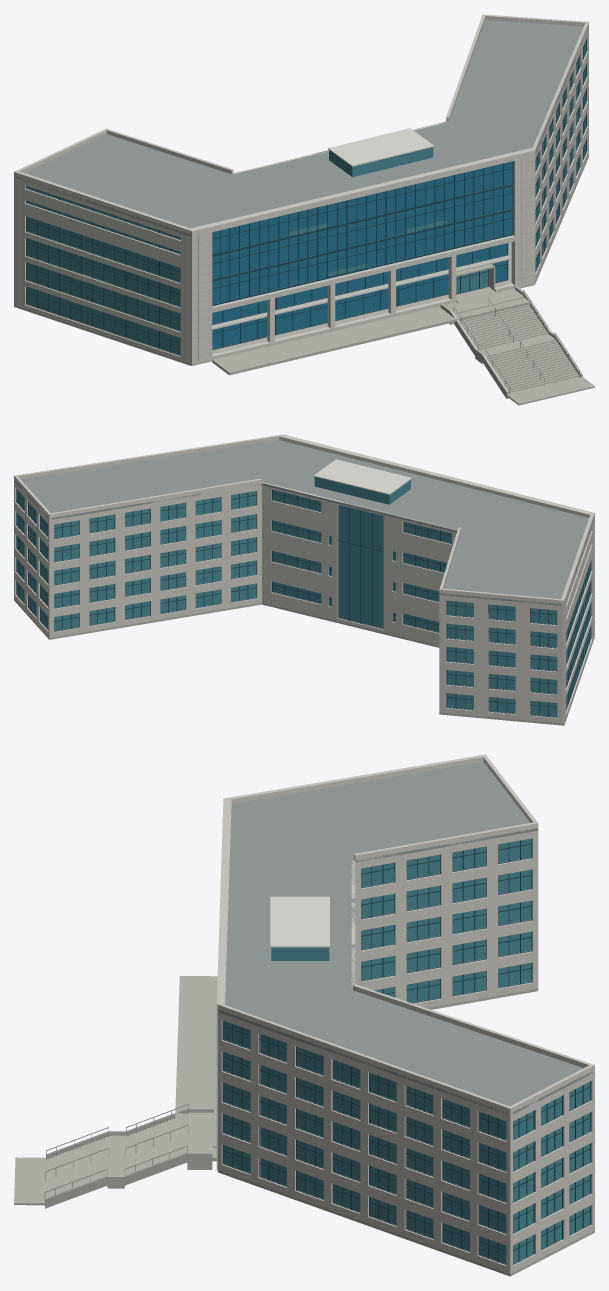
The picture shows the model from 3 angles, top to bottom: view 1: azimuth 30°, elevation 25°; view 2: azimuth 150°, elevation 25°; view 3: azimuth 270°, elevation 25°; orthographic projection. The views are drawn at different scales.
Parts seen in each view (by area): view 1: c9-edu-support__main-roof-slab, c9-edu-support__north-blue-curtain-glass, c9-edu-support__west-side-pale-wall, c9-edu-support__west-side-glazing-glass, c9-edu-support__lower-recessed-dark-glazing-glass, c9-edu-support__other-estimated-pale-wall, c9-edu-support__front-paved-terrace, c9-edu-support__north-blue-curtain-frame, c9-edu-support__west-side-glazing-frame, c9-edu-support__other-pale-parapets, c9-edu-support__right-wide-pale-frame, c9-edu-support__top-wide-pale-frame (+20 smaller); view 2: c9-edu-support__main-roof-slab, c9-edu-support__other-estimated-pale-wall, c9-edu-support__other-estimated-grouped-windows-glass, c9-edu-support__museum-court-pale-wall, c9-edu-support__museum-court-glass-glass, c9-edu-support__other-estimated-grouped-windows-frame, c9-edu-support__other-pale-parapets, c9-edu-support__west-side-pale-wall, c9-edu-support__top-wide-pale-frame, c9-edu-support__museum-court-glass-frame, c9-edu-support__photo-rooftop-service-cap, c9-edu-support__osm-floor-slab (+4 smaller); view 3: c9-edu-support__main-roof-slab, c9-edu-support__other-estimated-pale-wall, c9-edu-support__other-estimated-grouped-windows-glass, c9-edu-support__other-estimated-grouped-windows-frame, c9-edu-support__other-pale-parapets, c9-edu-support__front-paved-terrace, c9-edu-support__photo-rooftop-service-cap, c9-edu-support__stair-sloped-retaining-cheeks, c9-edu-support__west-side-parapet, c9-edu-support__top-wide-pale-frame, c9-edu-support__osm-floor-slab, c9-edu-support__stair-bottom-landing (+3 smaller).
Part boxes in pixels (left/top/right/bottom): c9-edu-support__main-roof-slab: left=16, top=19, right=588, bottom=236; c9-edu-support__north-blue-curtain-glass: left=212, top=161, right=512, bottom=304; c9-edu-support__west-side-pale-wall: left=16, top=176, right=191, bottom=363; c9-edu-support__west-side-glazing-glass: left=26, top=186, right=180, bottom=355; c9-edu-support__lower-recessed-dark-glazing-glass: left=212, top=243, right=507, bottom=349; c9-edu-support__other-estimated-pale-wall: left=14, top=26, right=588, bottom=305; c9-edu-support__front-paved-terrace: left=212, top=288, right=531, bottom=375; c9-edu-support__north-blue-curtain-frame: left=212, top=161, right=513, bottom=303; c9-edu-support__west-side-glazing-frame: left=26, top=186, right=180, bottom=355; c9-edu-support__other-pale-parapets: left=14, top=14, right=588, bottom=176; c9-edu-support__right-wide-pale-frame: left=511, top=148, right=535, bottom=287; c9-edu-support__top-wide-pale-frame: left=191, top=148, right=534, bottom=235; c9-edu-support__main-roof-slab: left=15, top=440, right=594, bottom=605; c9-edu-support__other-estimated-pale-wall: left=14, top=479, right=564, bottom=723; c9-edu-support__other-estimated-grouped-windows-glass: left=17, top=489, right=557, bottom=717; c9-edu-support__museum-court-pale-wall: left=262, top=482, right=456, bottom=645; c9-edu-support__museum-court-glass-glass: left=272, top=490, right=451, bottom=632; c9-edu-support__other-estimated-grouped-windows-frame: left=16, top=489, right=557, bottom=717; c9-edu-support__other-pale-parapets: left=14, top=434, right=564, bottom=603; c9-edu-support__west-side-pale-wall: left=561, top=519, right=594, bottom=723; c9-edu-support__top-wide-pale-frame: left=279, top=435, right=594, bottom=517; c9-edu-support__museum-court-glass-frame: left=272, top=489, right=451, bottom=632; c9-edu-support__photo-rooftop-service-cap: left=313, top=459, right=411, bottom=494; c9-edu-support__osm-floor-slab: left=14, top=599, right=594, bottom=725; c9-edu-support__main-roof-slab: left=218, top=762, right=592, bottom=1114; c9-edu-support__other-estimated-pale-wall: left=218, top=831, right=594, bottom=1273; c9-edu-support__other-estimated-grouped-windows-glass: left=223, top=838, right=590, bottom=1263; c9-edu-support__other-estimated-grouped-windows-frame: left=222, top=838, right=590, bottom=1264; c9-edu-support__other-pale-parapets: left=218, top=754, right=594, bottom=1113; c9-edu-support__front-paved-terrace: left=174, top=976, right=217, bottom=1161; c9-edu-support__photo-rooftop-service-cap: left=270, top=896, right=329, bottom=947; c9-edu-support__stair-sloped-retaining-cheeks: left=45, top=1108, right=188, bottom=1208; c9-edu-support__west-side-parapet: left=225, top=754, right=487, bottom=803; c9-edu-support__top-wide-pale-frame: left=216, top=798, right=231, bottom=1011; c9-edu-support__osm-floor-slab: left=218, top=937, right=594, bottom=1276; c9-edu-support__stair-bottom-landing: left=14, top=1157, right=46, bottom=1205.
Bounding box in the file's own units: 86.88 × 25.99 × 60.19.
